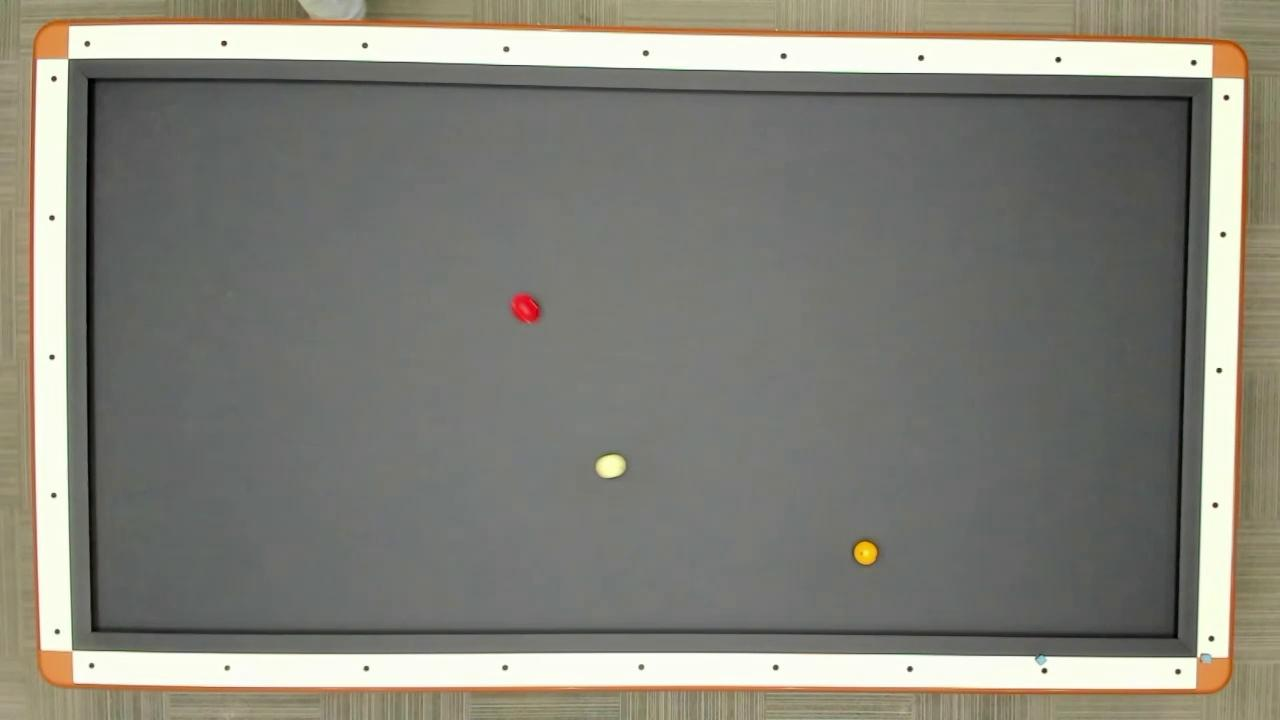Red: (509, 290, 542, 326)
White: (594, 452, 630, 483)
Yellow: (851, 540, 880, 568)
